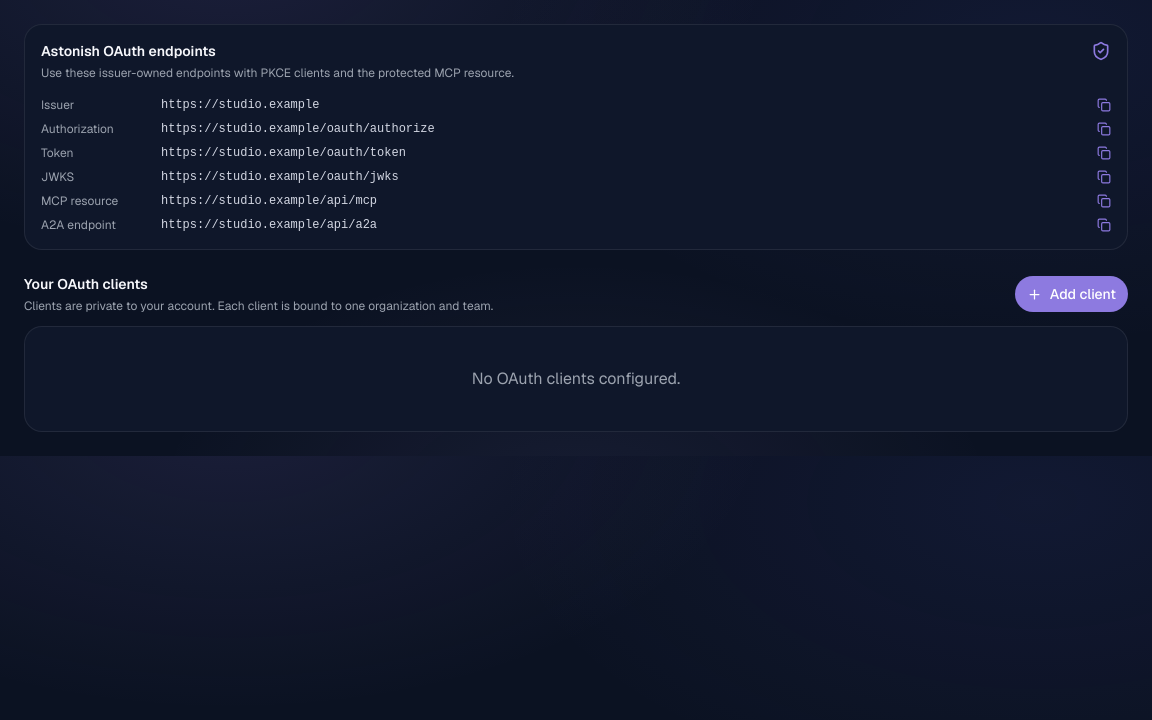
Test: OAuthSettings › renders and copies every endpoint returned by the authenticated personal discovery API
The image size is (1152, 720).
Expected: the text "https://studio.example" is shown, [161, 98, 319, 112]
Expected: the text "https://studio.example/oauth/authorize" is shown, [161, 122, 435, 136]
Click the button titled "Copy A2A endpoint" at x=1104, y=225, box [1097, 218, 1111, 232]
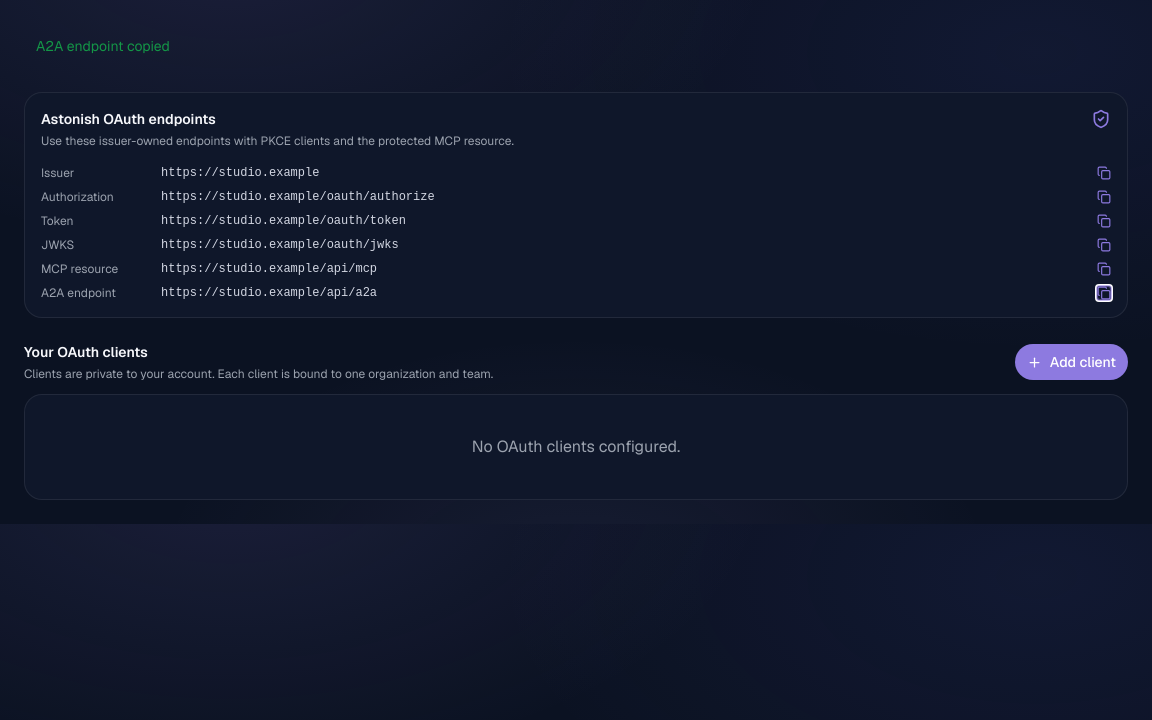
Now the text "A2A endpoint copied" is shown, box [36, 37, 170, 55]
